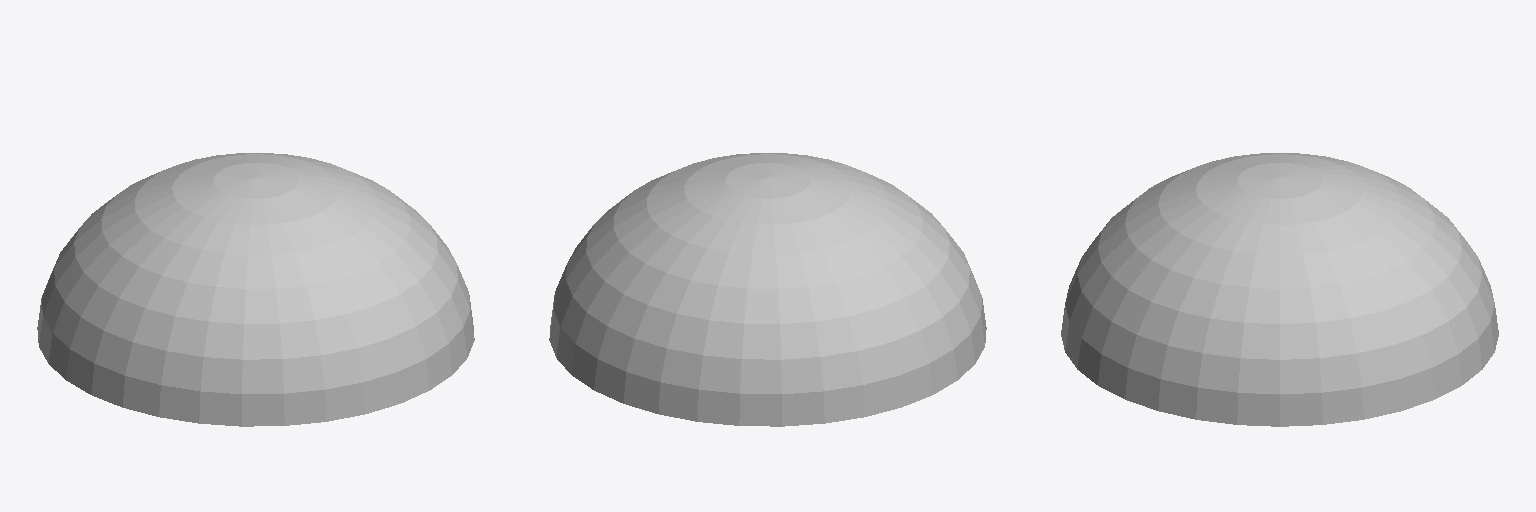
Rendered from glassdome2.obj.
3 views of the same model, side by side, from view 1: azimuth 30°, elevation 25°; view 2: azimuth 150°, elevation 25°; view 3: azimuth 270°, elevation 25° (orthographic).
Visible parts, largest first — view 1: Sphere; view 2: Sphere; view 3: Sphere.
Boxes of the visible parts, x1=… form: Sphere: x1=37, y1=153, x2=474, y2=426; Sphere: x1=549, y1=153, x2=986, y2=426; Sphere: x1=1061, y1=153, x2=1498, y2=426.
Bounding box in the file's own units: 9.69 × 3.82 × 9.69.